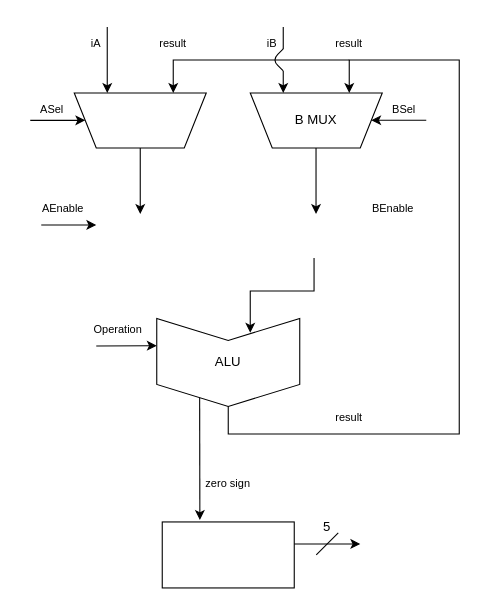
The diagram is 487 pixels wide and 607 high, and some of its shapes have lost their labels. Each missing label, with the centre of its shape:
"A MUX" goes at (139,120).
"CONTROL UNIT" goes at (227,554).
